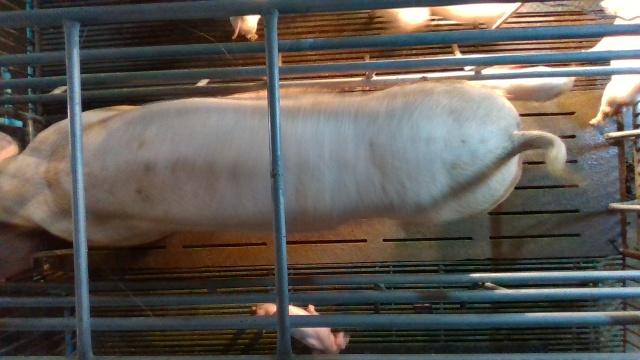piglet: (584, 0, 640, 126), (251, 304, 351, 354), (485, 65, 574, 100)
sow-stand-feed: (0, 80, 566, 277)
